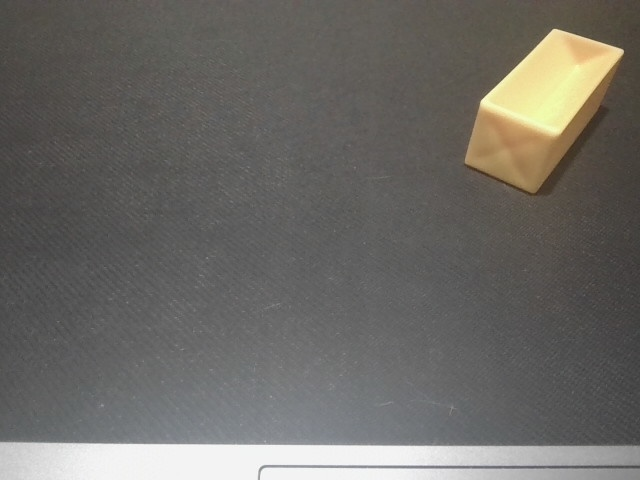YellowSample: (460, 25, 627, 199)
